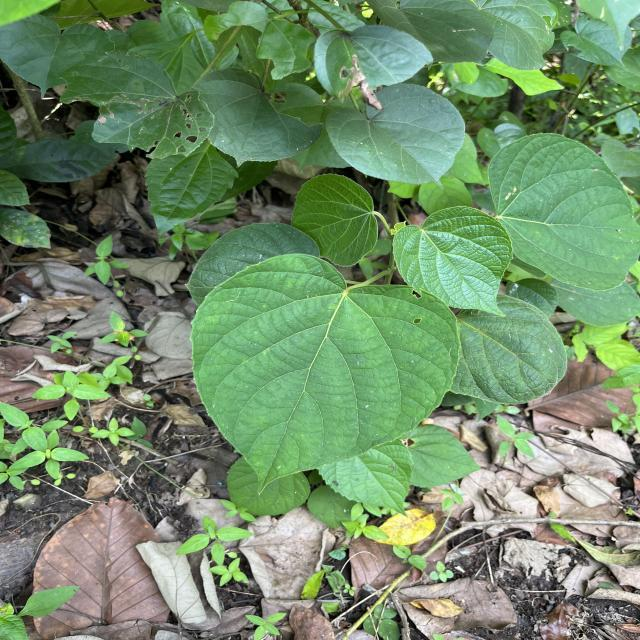Clerodendrum infortunatum: (186, 252, 462, 497), (486, 132, 640, 292), (389, 203, 514, 320), (451, 292, 569, 406), (288, 172, 380, 269)
